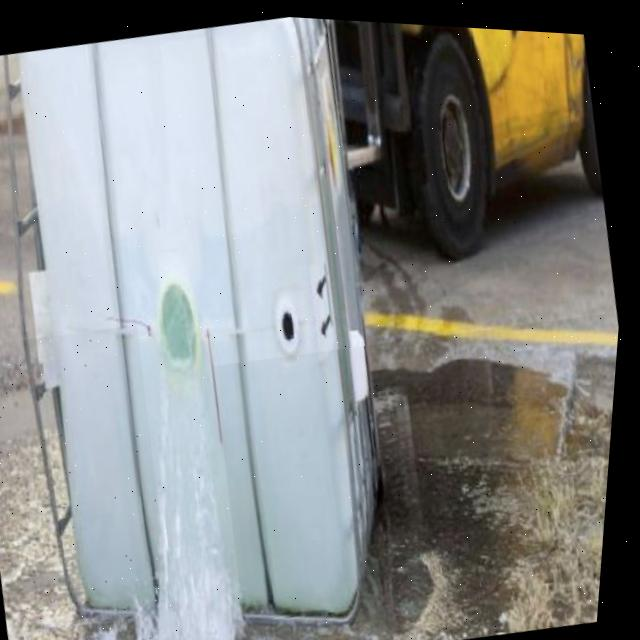spillage: (256, 337, 622, 640), (0, 357, 148, 640)
